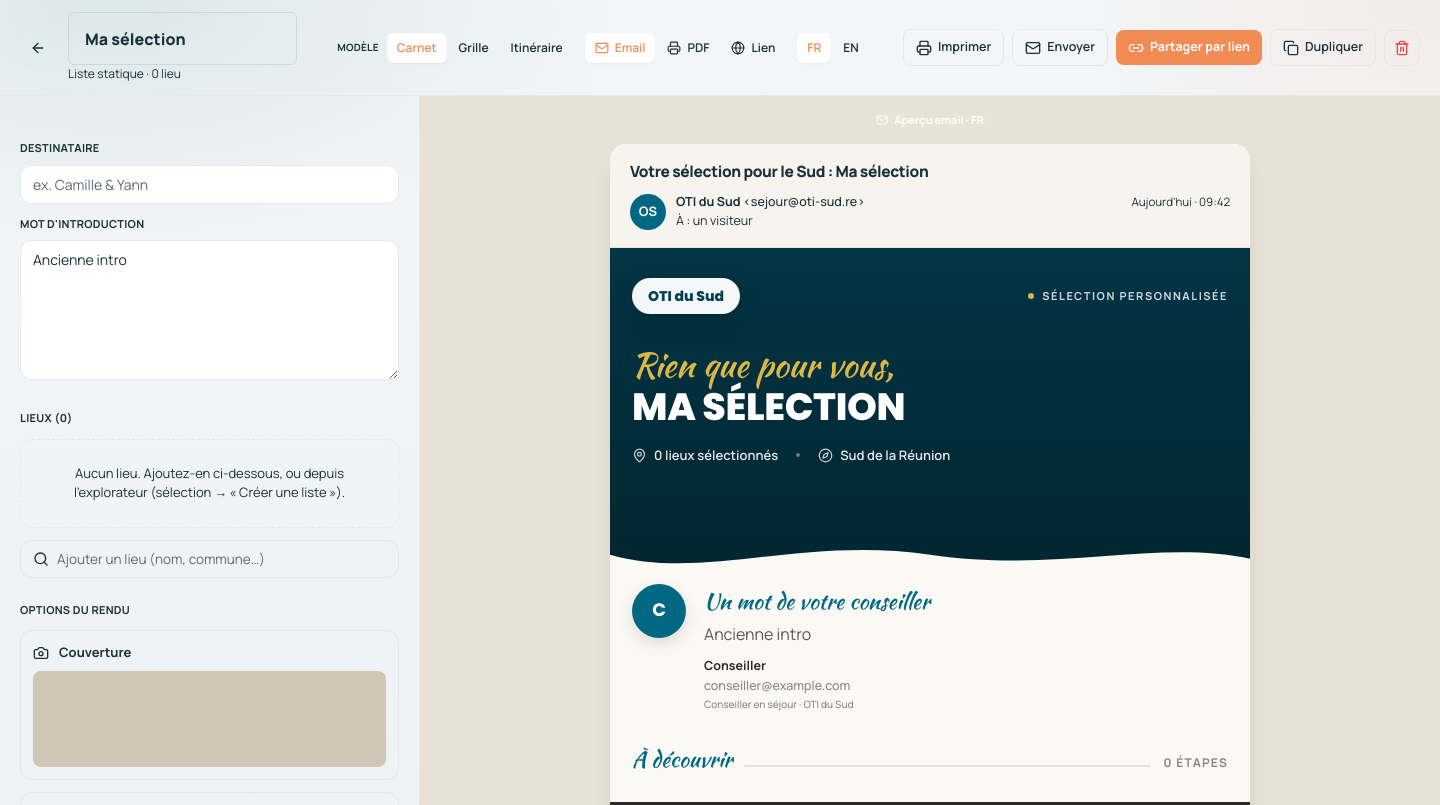
Test case: ListComposeView — envoi et sauvegarde confirmée (MET-02) › un échec de sauvegarde bloque l’envoi et conserve le brouillon
The image size is (1440, 805).
Replace the text in the text box labelled "Mot d'introduction" with "Nouvelle intro" at (210, 310), box [20,240,399,380]
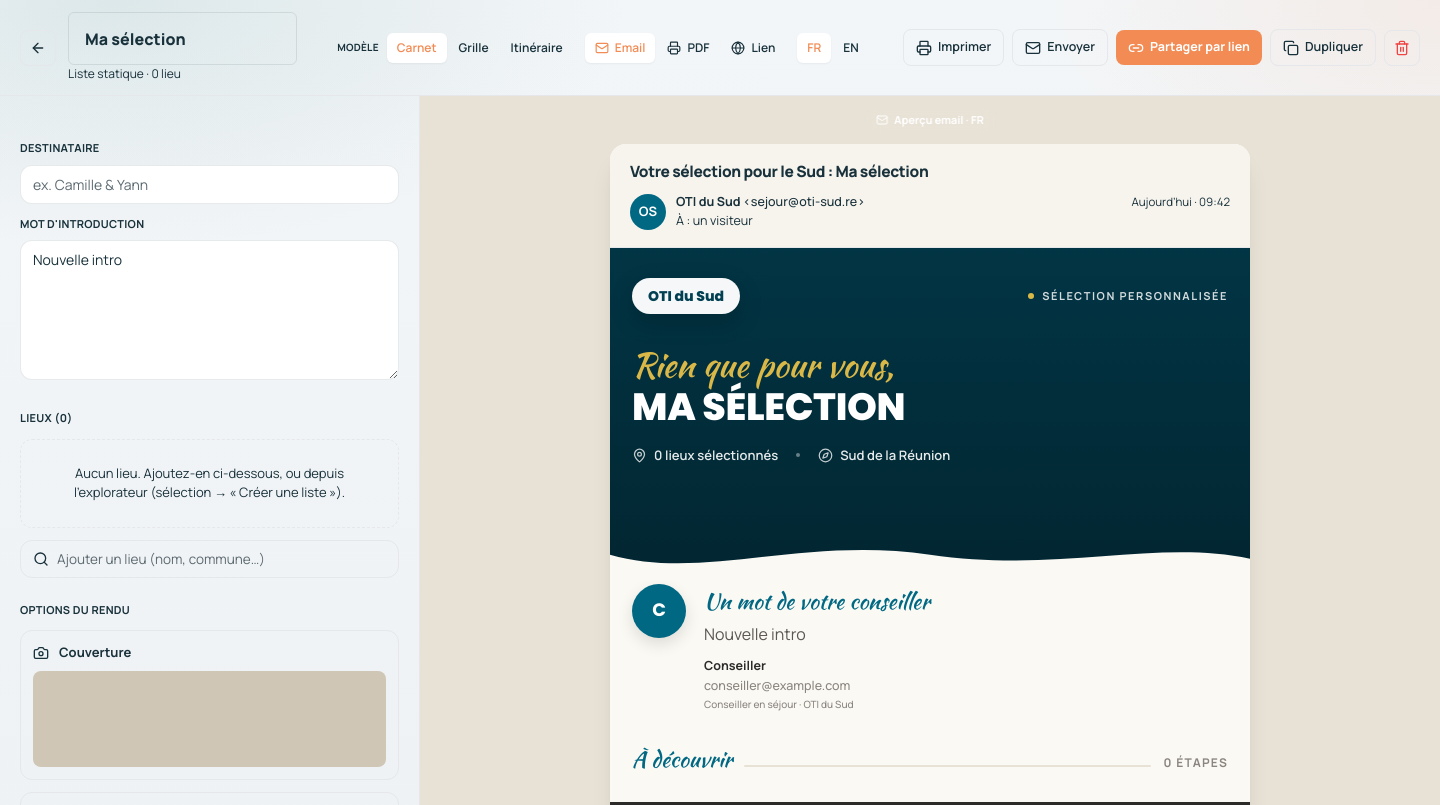
Click the button "Envoyer" at (1060, 48), box [1012,29,1108,66]
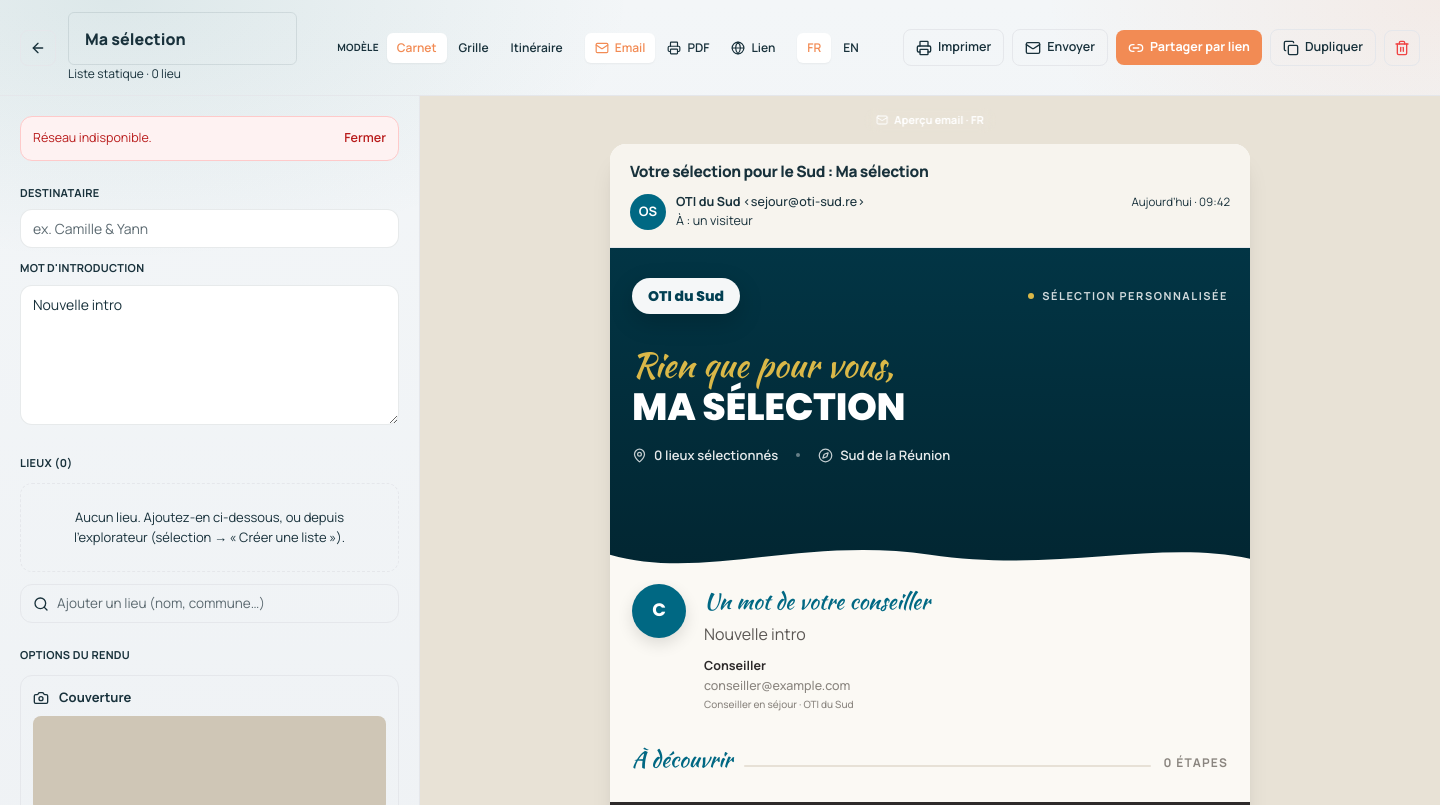
Now the message shows "Réseau indisponible.", box [33,129,152,146]
